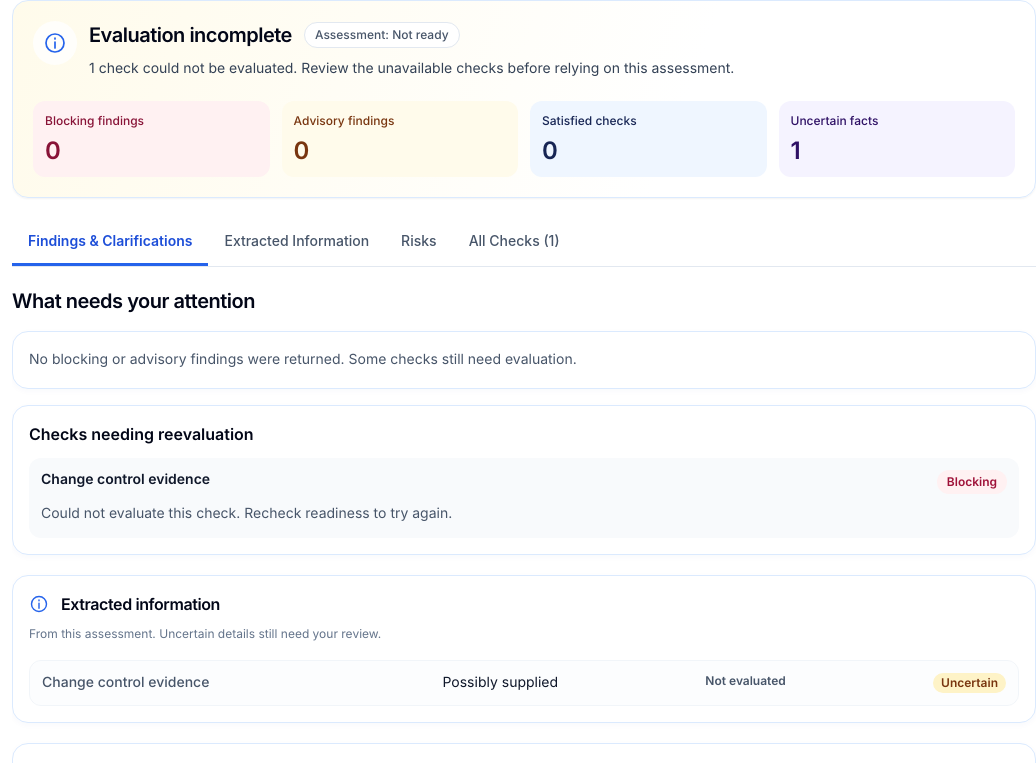
Test: ReadinessCheckPanel › preserves an uncertainty flag even when the same fact could not be evaluated
This screenshot has width=1036, height=763.
expect the text "Not evaluated" is shown: met, box [705,673,786,689]
expect the text "Uncertain" is shown: met, box [933,673,1006,693]
Click the tab "All Checks (1)".
click(514, 242)  # box [453,218,576,266]
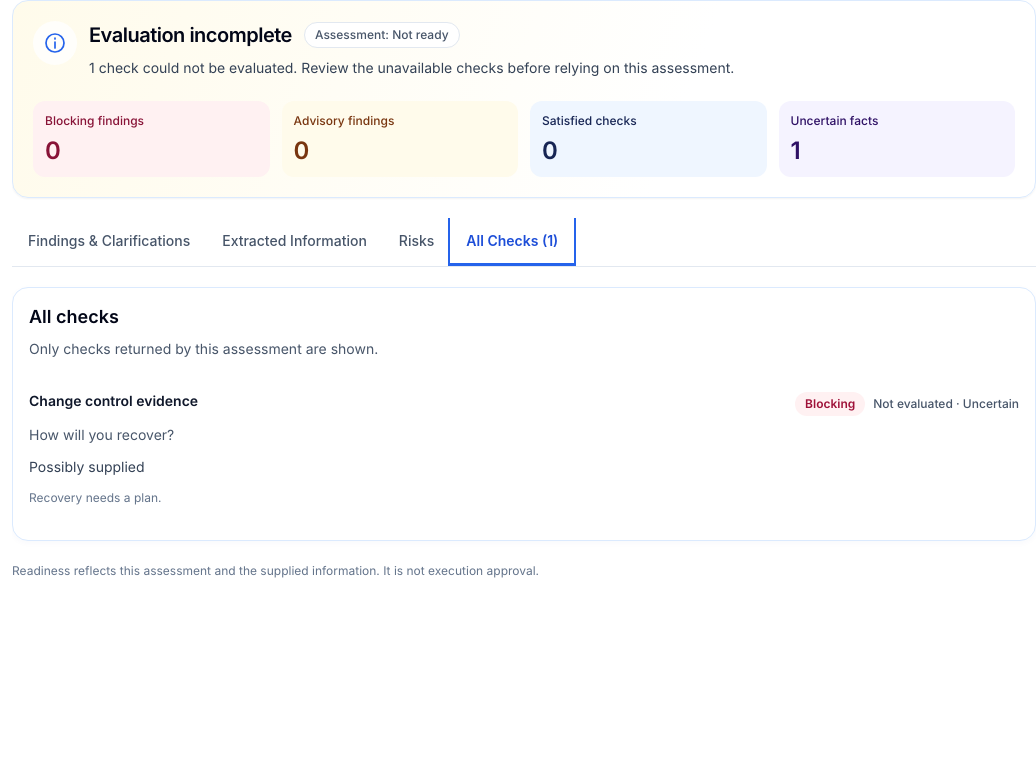
expect the text "Not evaluated · Uncertain" is shown: met, box [873,396,1019,412]
